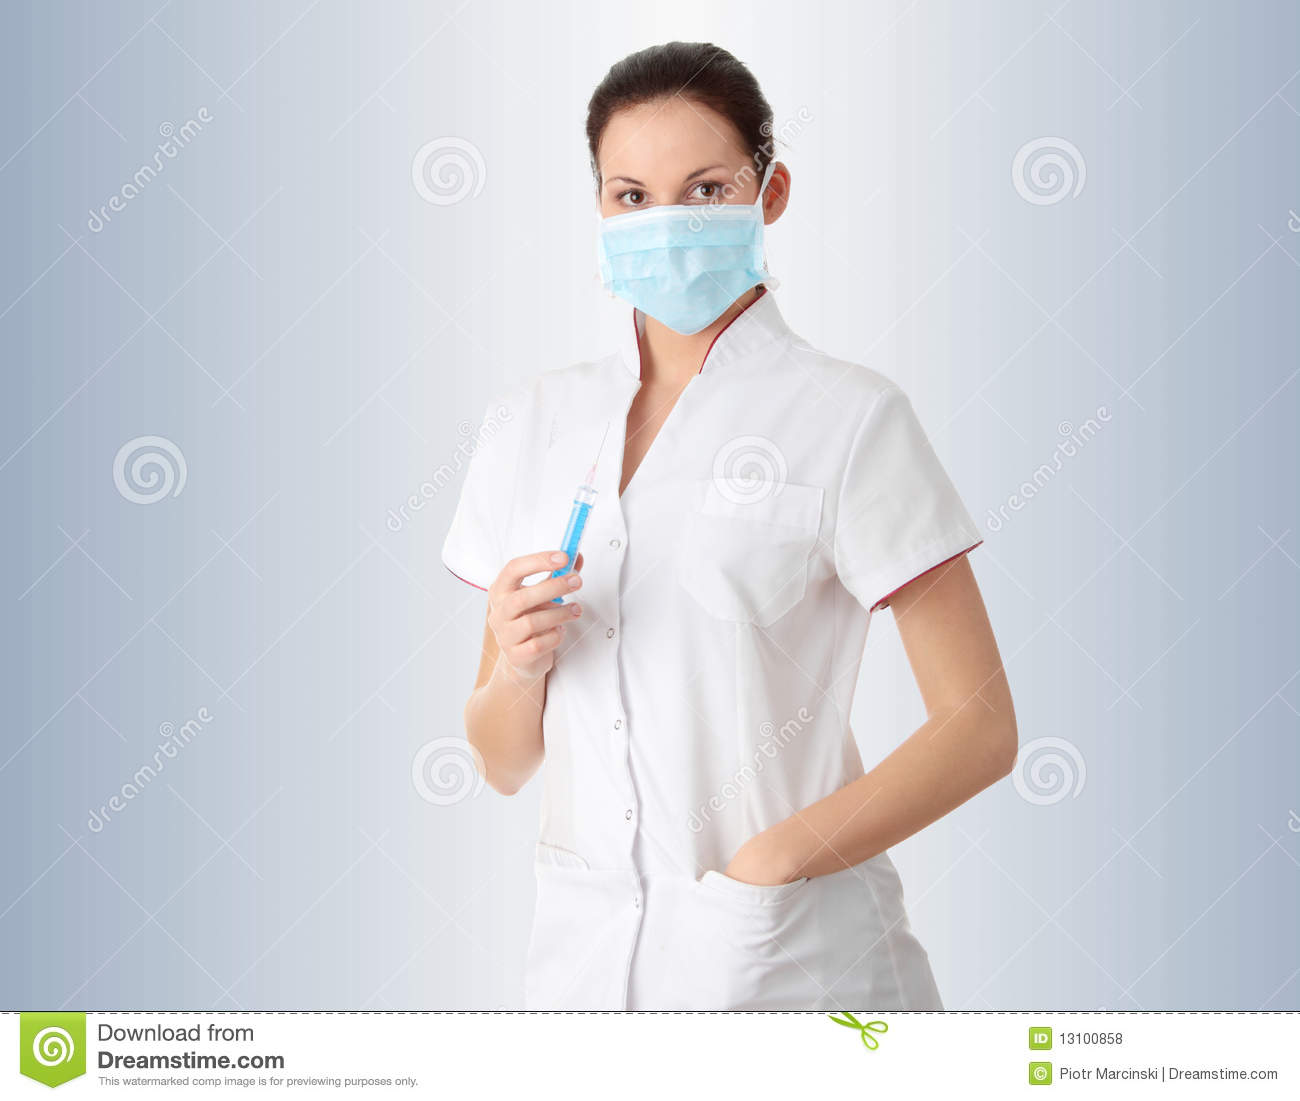mask: (596, 200, 766, 335)
